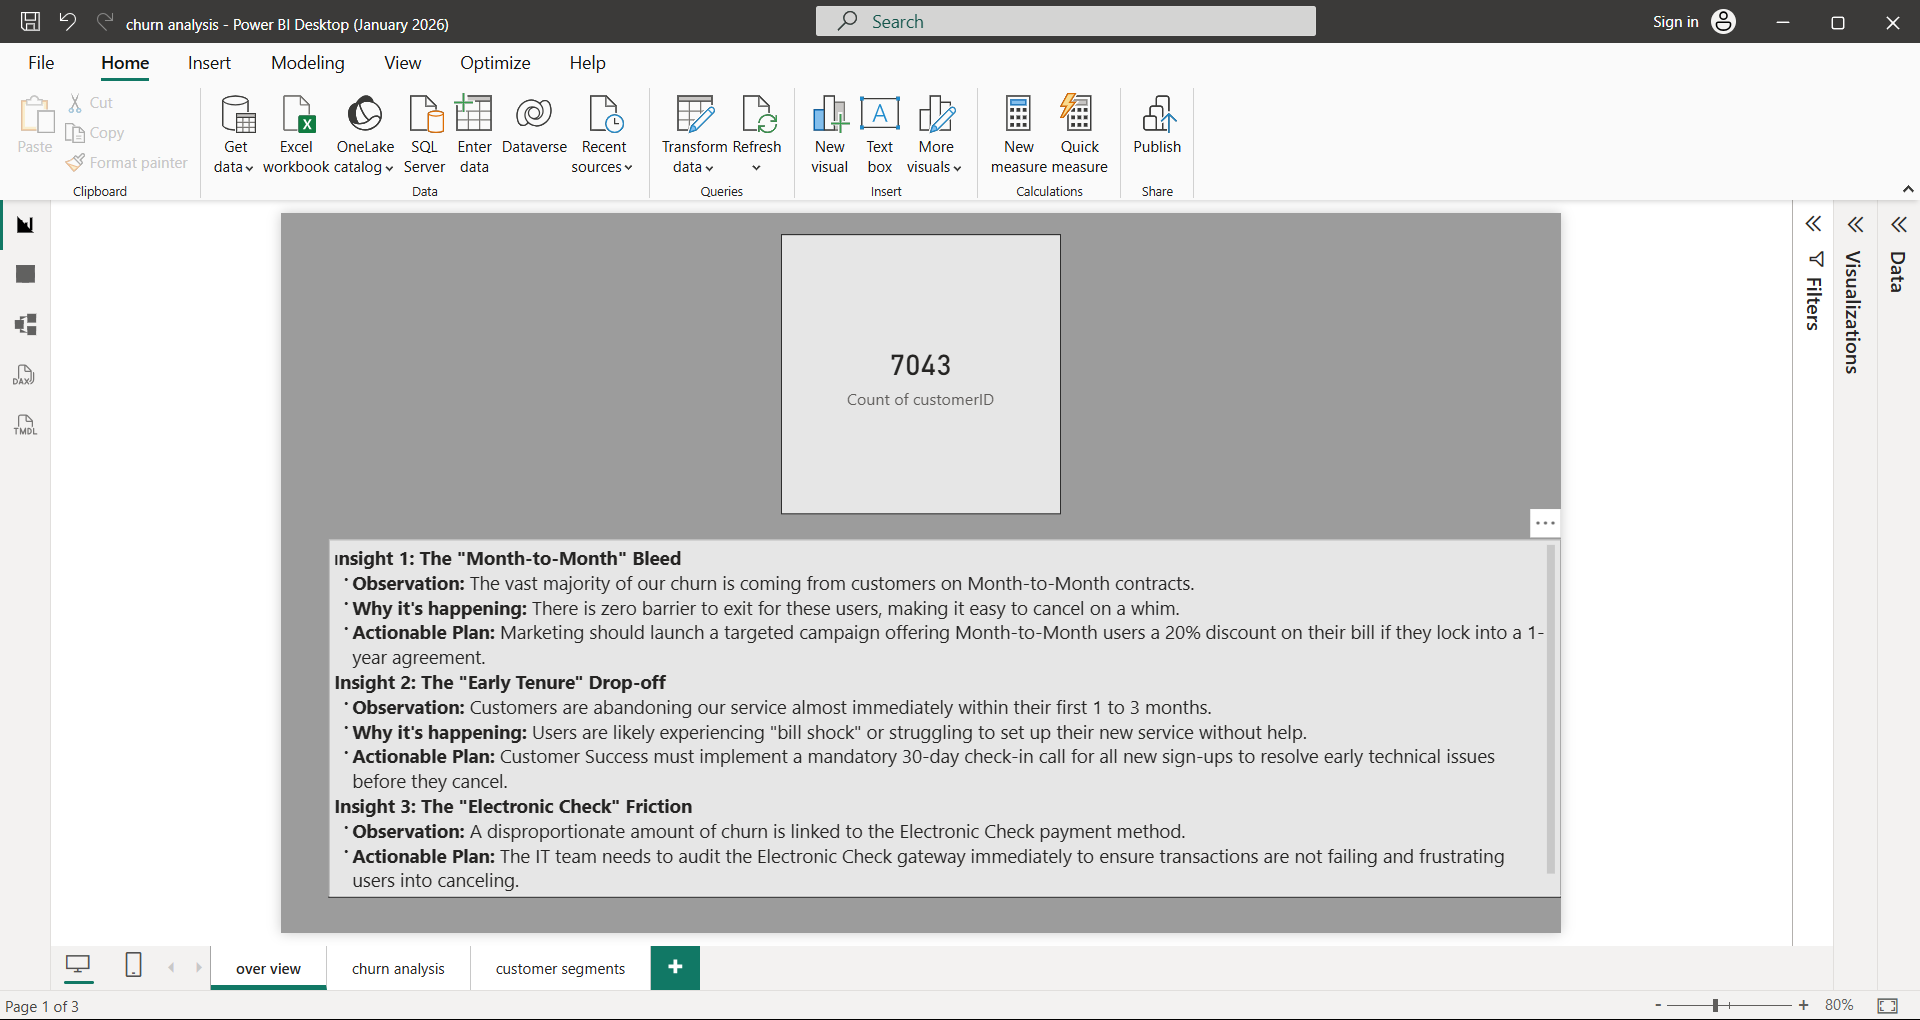

What the dashboard file says about the page in this screenshot:
{"tool":"powerbi","page":{"name":"over view","canvas":[1280,720],"ordinal":0},"visuals":[{"type":"card","fields":{"Values":["Count(clean_churn_data.customerID)"]},"box":[500,21.4,280,280],"z":0},{"type":"textbox","box":[47.1,325.7,1232.9,358.6],"z":1}]}

Visuals, with their boxes on the page's 1280x720 design canvas (x1, y1, x2, y2). These are canvas units, not pixel positions in the 1920x1020 screenshot, which may show the page scaled, cropped or inside an application window:
card - Count(clean_churn_data.customerID): 500 21 780 301
textbox: 47 326 1280 684
